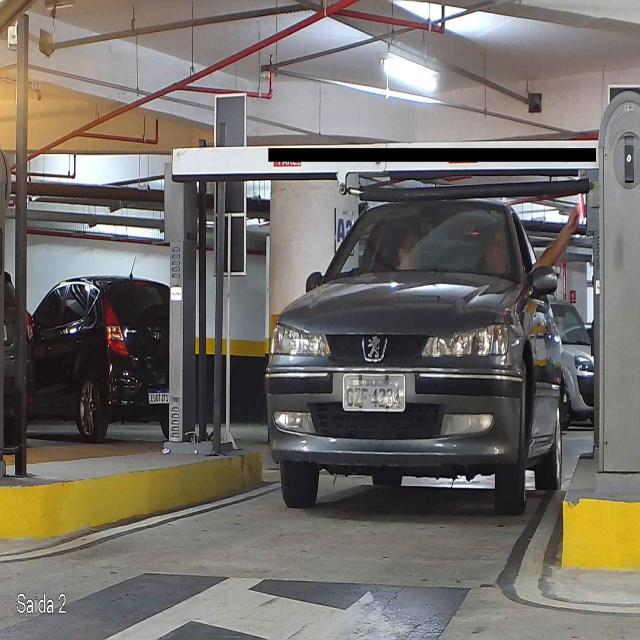old_plate: (340, 371, 409, 414)
